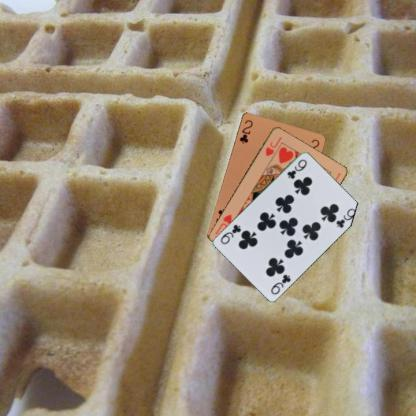2c: (237, 118, 254, 144)
9c: (268, 271, 292, 296), (284, 157, 308, 180)
Jh: (262, 134, 283, 157)
